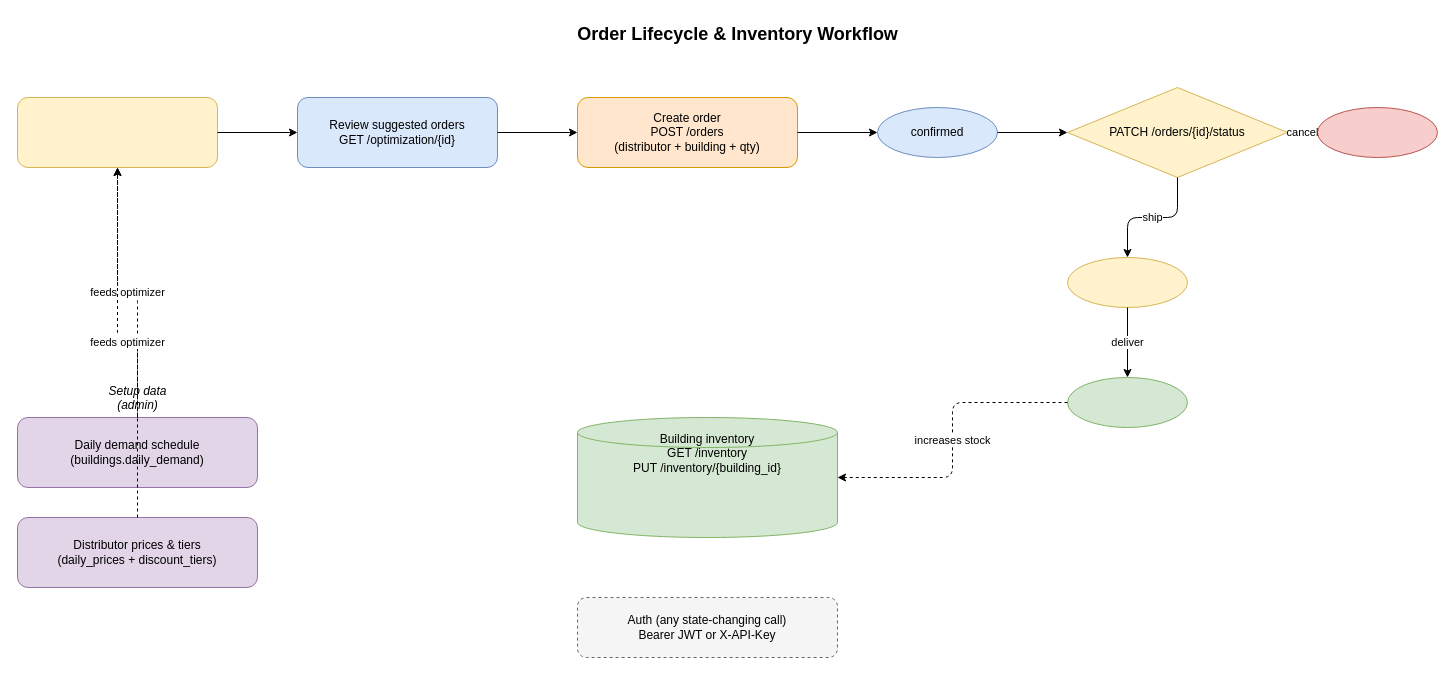
Image size: 1455x675. Some labels were removed from this diagram. The shapes that lost their labels are listed below. From the top down, each one's box as (x1, y1, x2, y2) in pixels, then its label:
(16, 96, 218, 168): Run optimization POST /optimization
(1316, 106, 1438, 158): cancelled
(1066, 256, 1188, 308): shipped
(1066, 376, 1188, 428): delivered
